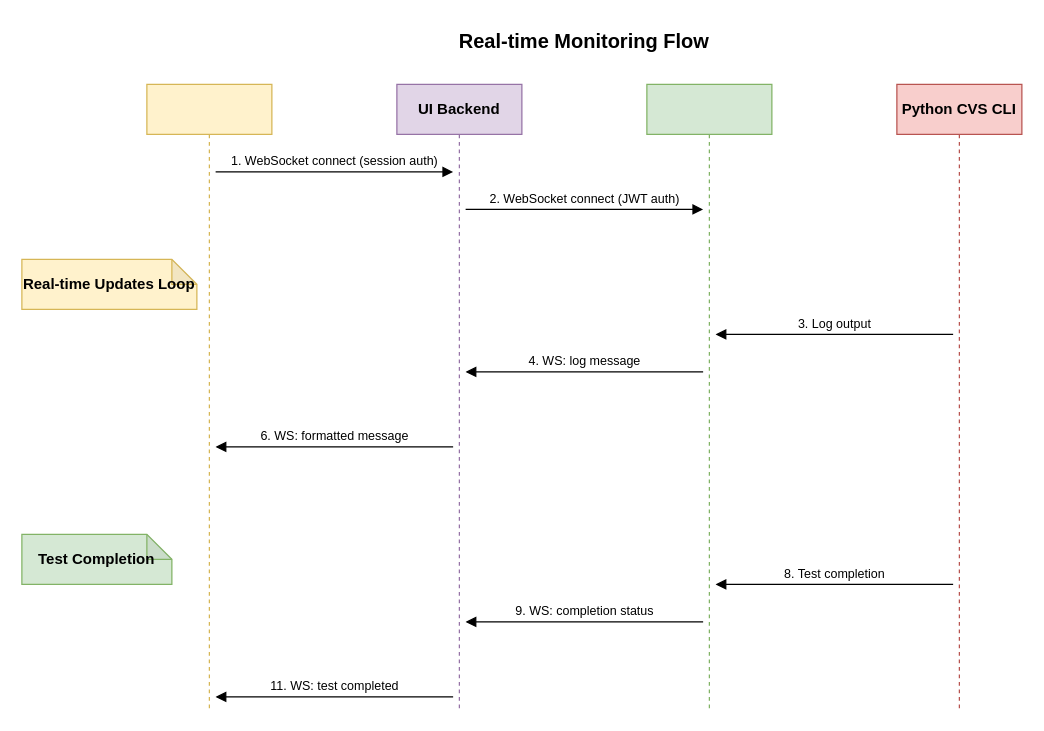
Image size: 1044x731. Some labels were removed from this diagram. The shapes that lost their labels are listed below. From the top down, each one's box as (x1, y1, x2, y2) in pixels, then its label:
(146, 83, 272, 709): UI Frontend
(646, 83, 772, 709): CVS API Server
